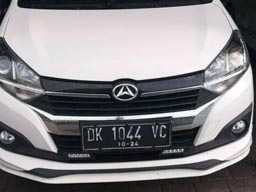plat: (80, 124, 171, 140)
